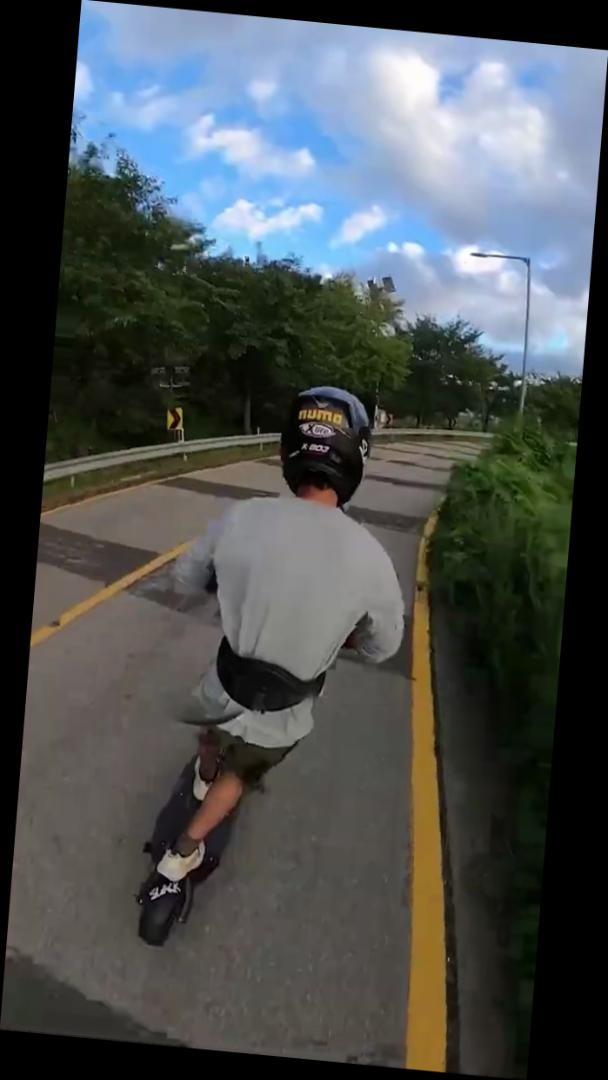helmet: (130, 369, 426, 971)
